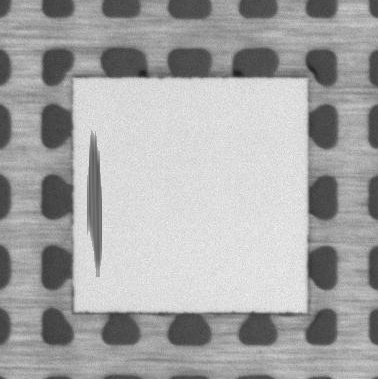DIE_INK: (87, 113, 102, 278)
